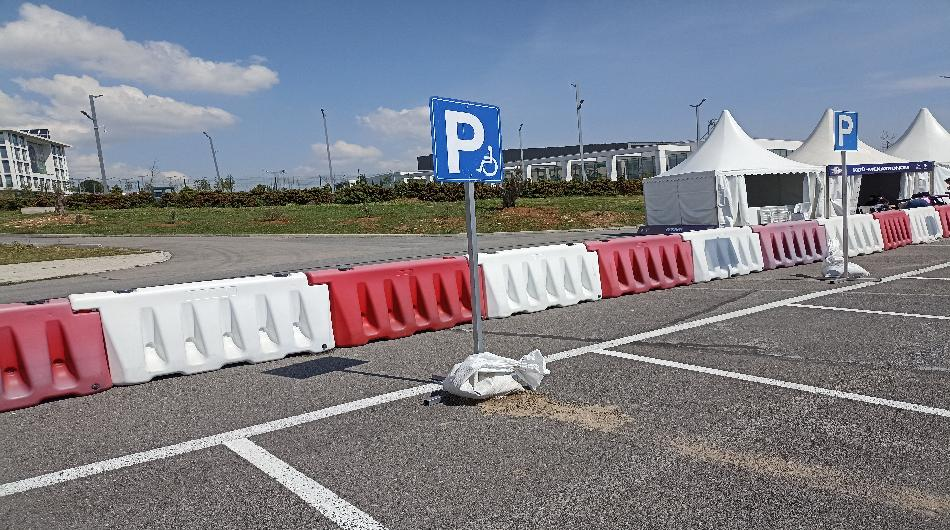engelli_park: (429, 96, 506, 179)
park: (834, 109, 857, 151)
